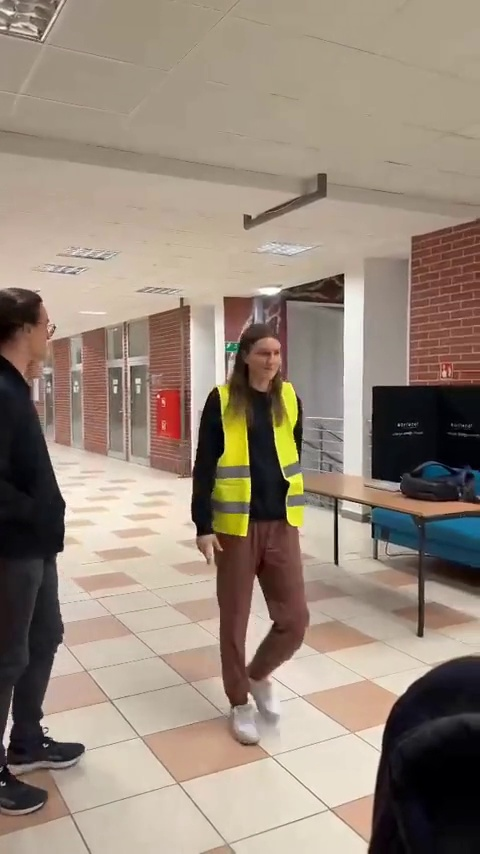no vest: (0, 288, 80, 818)
vest: (184, 329, 319, 752)
